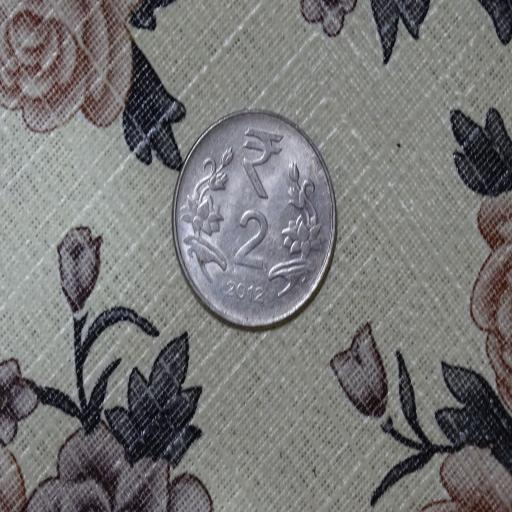rupee2: (171, 110, 336, 327)
